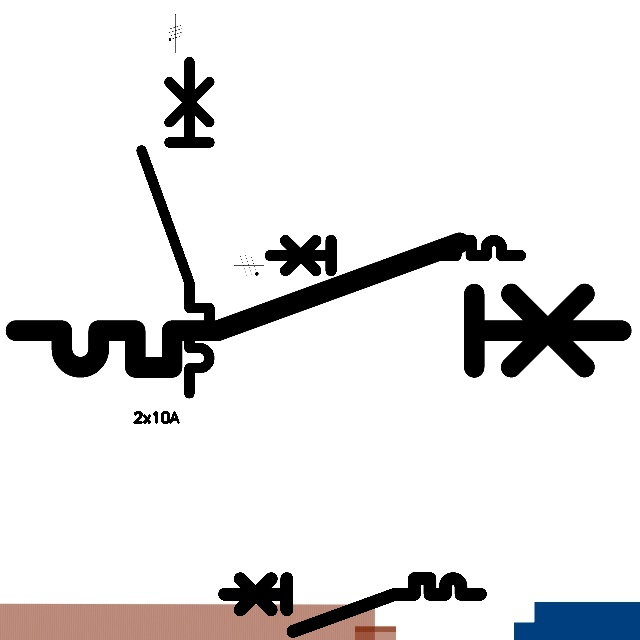interruptor_termomagnetico: (0, 227, 637, 383), (133, 53, 218, 401), (218, 572, 487, 637), (263, 234, 526, 298)
